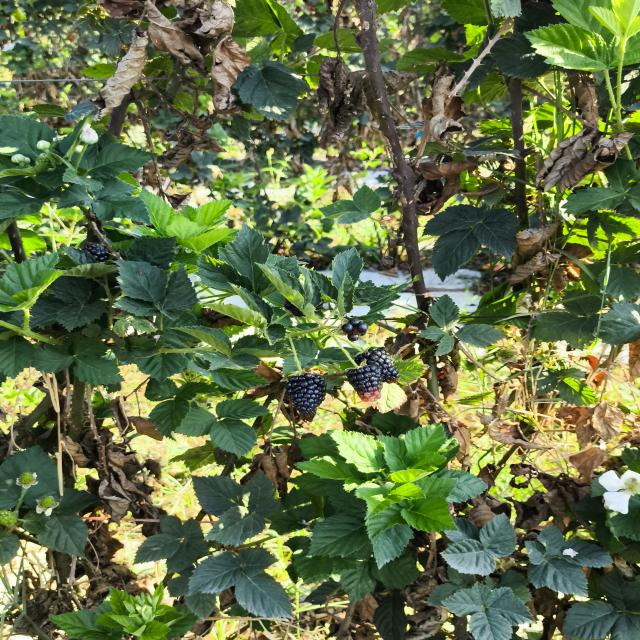boton: (11, 154, 30, 167), (36, 140, 51, 151)
flor: (599, 470, 640, 514)
maduro: (286, 373, 326, 420), (354, 347, 399, 383)
marron: (347, 364, 382, 402)
